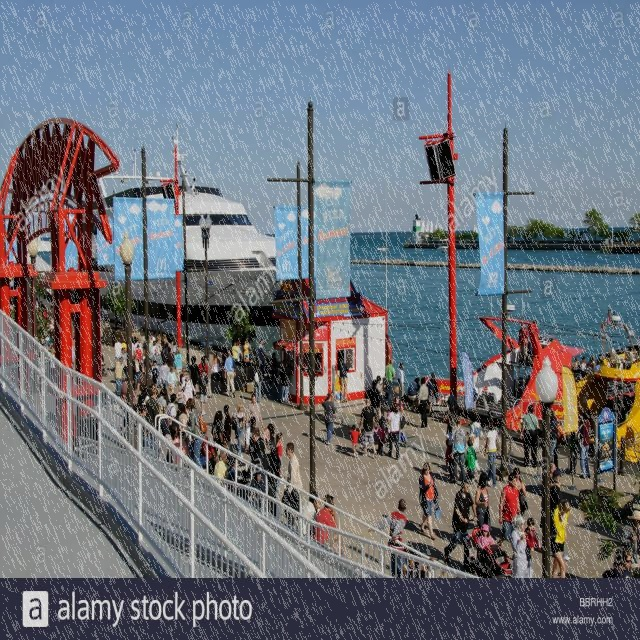pessoa: (367, 498, 408, 579), (442, 478, 478, 566), (312, 494, 348, 560), (546, 468, 571, 562), (498, 472, 522, 561), (280, 441, 304, 526), (418, 460, 442, 541), (180, 398, 207, 470), (550, 498, 571, 579), (188, 432, 220, 481), (510, 513, 534, 578), (266, 423, 282, 518), (246, 427, 266, 500), (518, 403, 540, 468), (134, 402, 160, 452), (483, 420, 501, 489), (401, 554, 447, 580), (450, 416, 467, 486), (474, 472, 492, 538), (358, 397, 377, 459), (297, 489, 322, 536), (577, 410, 592, 480), (522, 516, 542, 568), (230, 402, 248, 459), (36, 297, 54, 352), (320, 392, 338, 446), (550, 410, 566, 470), (119, 374, 137, 427), (600, 550, 634, 578), (468, 412, 483, 474), (386, 402, 401, 461), (513, 466, 529, 519), (145, 387, 161, 438), (245, 416, 259, 474), (158, 424, 178, 464), (626, 508, 640, 565), (194, 368, 210, 416), (462, 439, 478, 485), (165, 392, 179, 442), (424, 371, 439, 417), (416, 377, 429, 430), (222, 350, 236, 399), (246, 393, 264, 430), (210, 410, 227, 448), (213, 450, 229, 490), (384, 356, 396, 409), (444, 420, 454, 483), (136, 364, 155, 397), (222, 404, 232, 466), (274, 430, 286, 480), (172, 428, 188, 465), (262, 427, 272, 486), (156, 387, 170, 429), (477, 523, 497, 552), (213, 450, 229, 486), (134, 403, 150, 438), (188, 355, 200, 401), (278, 359, 290, 404), (406, 377, 421, 412), (373, 418, 386, 458), (181, 372, 197, 404), (256, 338, 268, 380), (152, 346, 164, 388), (338, 359, 349, 404), (367, 378, 382, 410), (267, 350, 279, 390), (348, 423, 361, 459), (113, 356, 124, 398), (568, 430, 578, 475), (202, 354, 212, 399), (142, 351, 154, 388), (517, 321, 529, 357), (252, 361, 262, 404), (238, 468, 251, 501), (132, 352, 142, 392), (210, 352, 221, 388), (548, 462, 562, 490), (158, 358, 170, 390), (226, 456, 240, 482), (167, 364, 179, 394), (173, 348, 183, 384), (118, 347, 128, 383), (220, 345, 230, 380), (446, 392, 458, 421), (176, 384, 186, 416), (177, 404, 189, 429), (160, 336, 168, 372), (70, 311, 75, 368), (396, 362, 404, 397), (390, 385, 400, 413), (178, 366, 188, 394), (160, 332, 170, 360), (146, 334, 155, 365), (137, 383, 149, 406), (150, 358, 158, 392), (113, 337, 123, 364), (580, 355, 592, 377), (197, 355, 209, 377), (8, 276, 14, 318), (133, 336, 144, 358), (243, 336, 252, 361), (586, 356, 596, 377), (164, 346, 173, 368), (149, 340, 162, 354), (594, 359, 604, 377), (143, 386, 153, 404), (134, 344, 144, 362), (231, 340, 239, 362), (386, 406, 392, 434), (171, 338, 177, 366), (375, 375, 383, 395), (532, 318, 540, 337), (132, 337, 136, 374), (154, 337, 162, 355), (237, 339, 243, 361), (286, 356, 294, 372), (572, 356, 580, 368), (149, 331, 157, 342), (121, 338, 127, 352), (598, 353, 604, 366), (163, 341, 169, 354), (156, 333, 163, 344), (303, 360, 309, 372), (524, 373, 532, 382), (580, 360, 586, 370), (100, 308, 103, 326), (150, 383, 156, 388)
